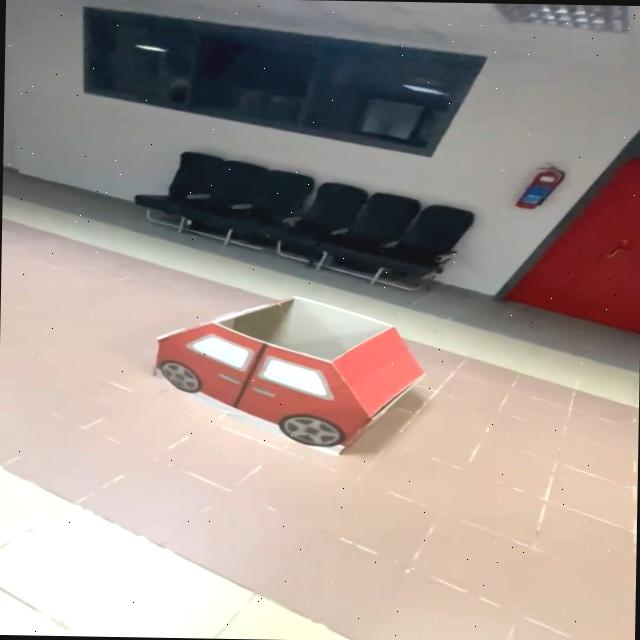red_car: (108, 286, 481, 469)
